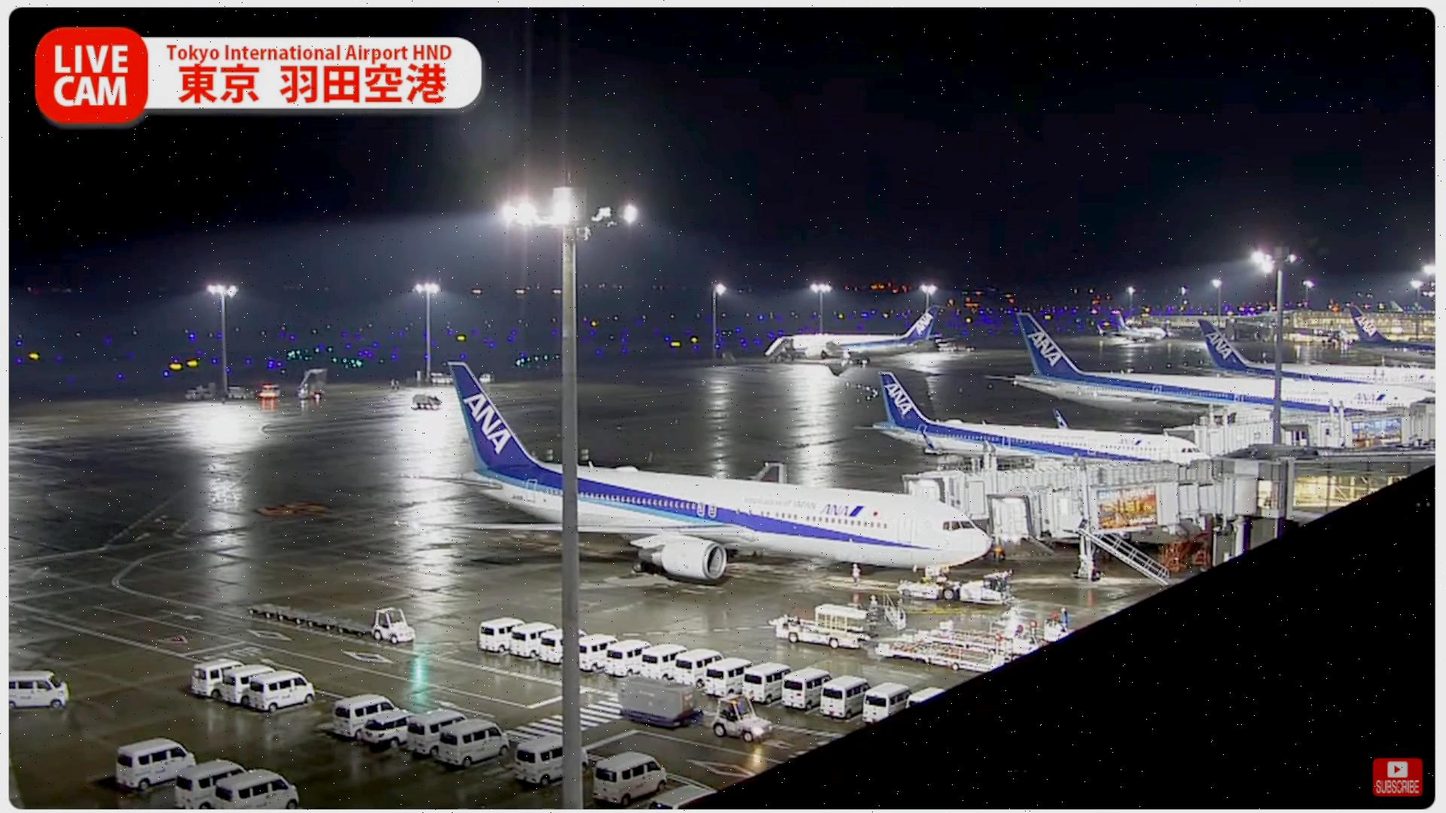Aerobridge: (985, 475, 1249, 541), (902, 461, 1219, 494)
Airplane: (384, 360, 990, 589)
Dolly: (245, 595, 373, 641)
JCPL: (863, 638, 1018, 673), (895, 625, 1050, 656)
Skyloader: (758, 598, 872, 653)
Tow Tug: (896, 572, 1024, 609)
Tractor: (369, 607, 423, 645)
Window: (1293, 468, 1419, 517)
